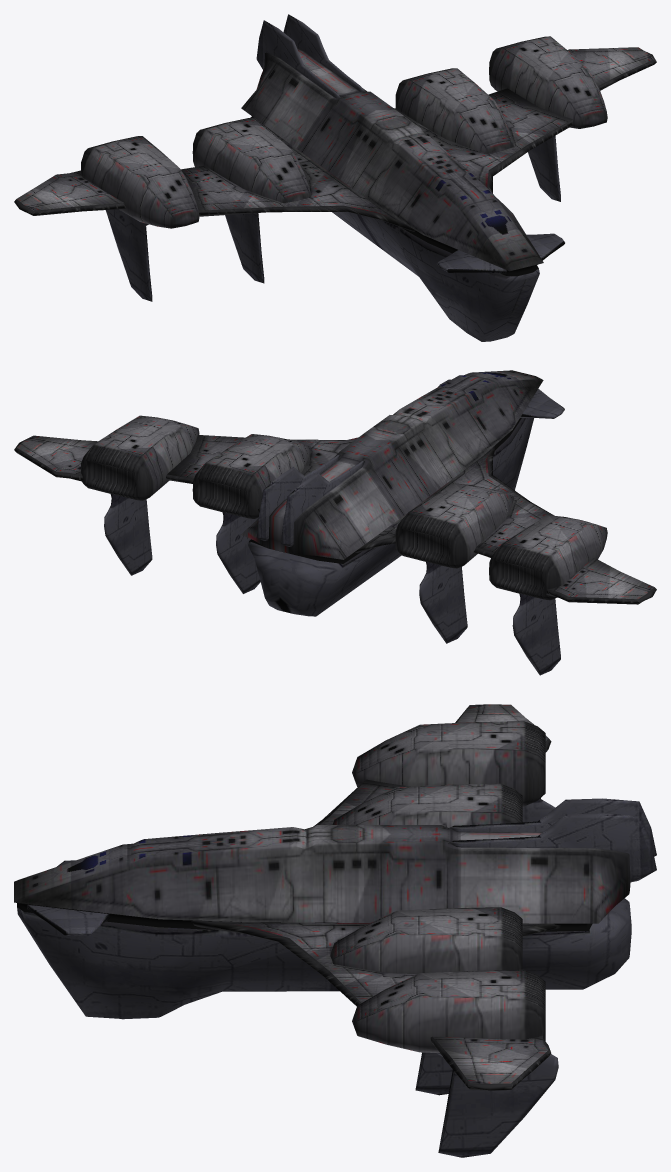
File: goddard.obj
The picture shows the model from 3 angles, top to bottom: view 1: azimuth 30°, elevation 25°; view 2: azimuth 150°, elevation 25°; view 3: azimuth 270°, elevation 25°; orthographic projection. The views are drawn at different scales.
Bounding box in the file's own units: 28.84 × 7.93 × 20.32.
Materials: 2 (2 with a texture image).
